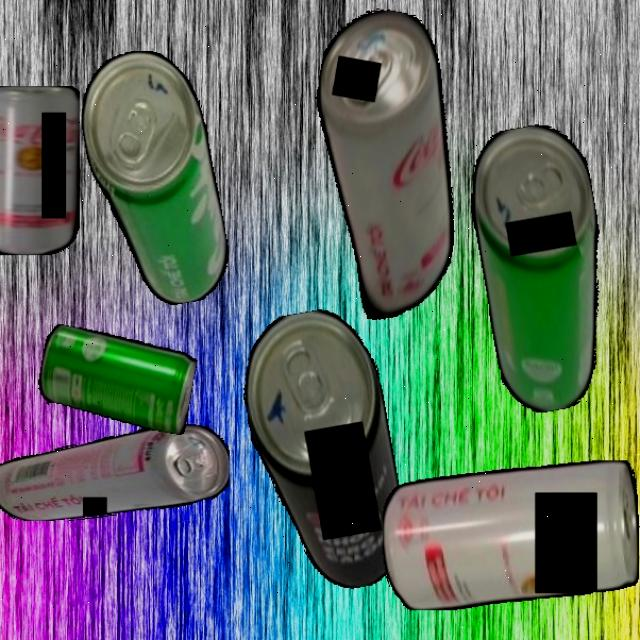debris: (278, 1, 491, 345), (232, 302, 414, 601), (460, 118, 628, 418), (71, 42, 236, 314), (381, 459, 640, 610), (0, 424, 230, 521), (34, 323, 199, 435), (0, 85, 80, 255)
